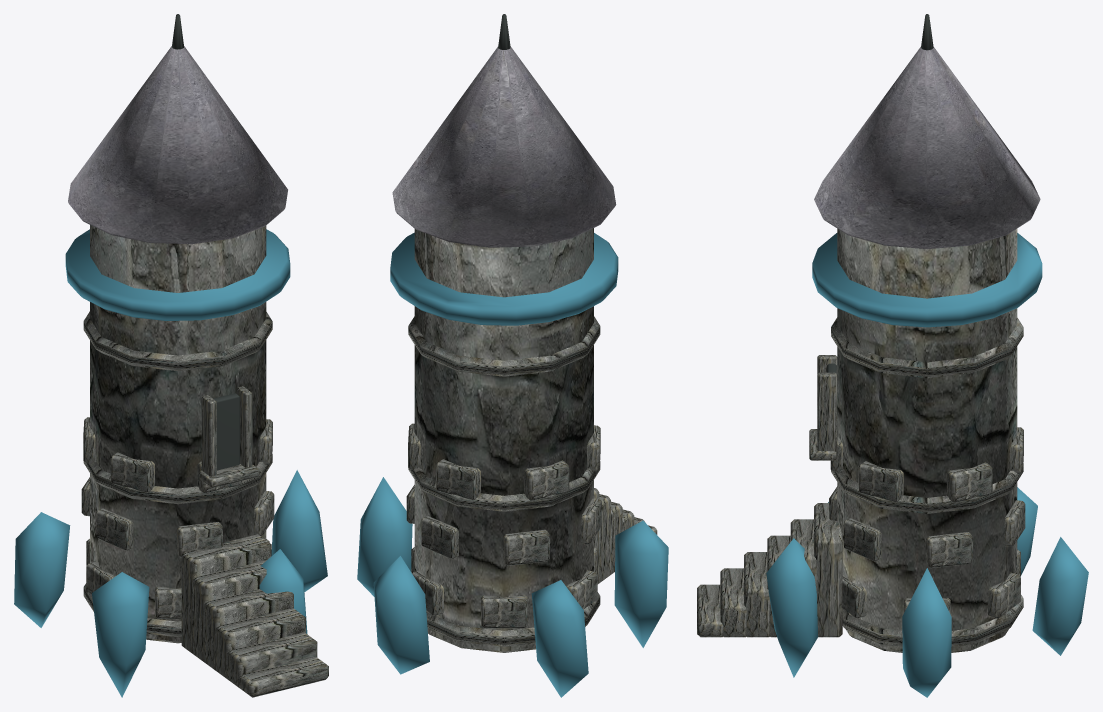
The model's file is env-site-mageTower-mobile.glb.
3 renders of one model, left to right at view 1: azimuth 30°, elevation 25°; view 2: azimuth 150°, elevation 25°; view 3: azimuth 270°, elevation 25°, orthographic.
Visible parts, largest first — view 1: site mageTower · authored textured miniature; view 2: site mageTower · authored textured miniature; view 3: site mageTower · authored textured miniature.
Part boxes in pixels (x1,y1,x2,y2): site mageTower · authored textured miniature: [14, 14, 328, 697]; site mageTower · authored textured miniature: [357, 14, 668, 697]; site mageTower · authored textured miniature: [697, 14, 1088, 697].
Bounding box in the file's own units: 0.8677 × 1.98 × 1.09.
4 materials, 2 textured.
